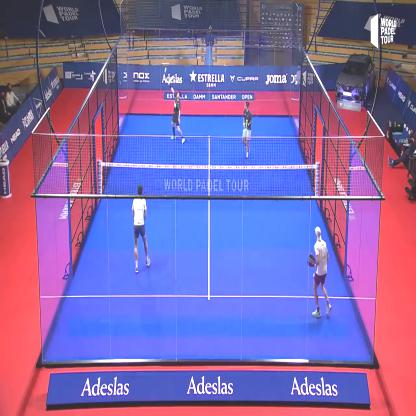ball: (162, 63, 170, 74)
